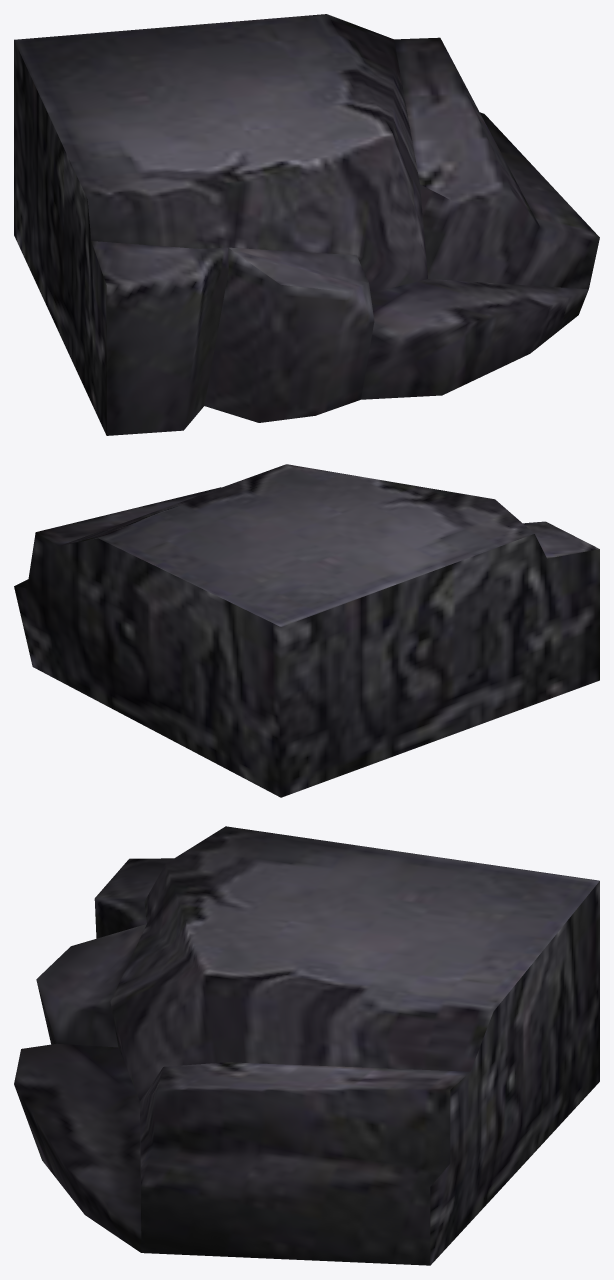
File: Treasure_Stone_03.FBX
The picture shows the model from 3 angles, top to bottom: view 1: azimuth 30°, elevation 25°; view 2: azimuth 150°, elevation 25°; view 3: azimuth 270°, elevation 25°; orthographic projection. The views are drawn at different scales.
Visible parts, largest first — view 1: Treasure_Stone_03; view 2: Treasure_Stone_03; view 3: Treasure_Stone_03.
Boxes of the visible parts, x1=… form: Treasure_Stone_03: x1=14, y1=14, x2=599, y2=435; Treasure_Stone_03: x1=14, y1=464, x2=599, y2=797; Treasure_Stone_03: x1=14, y1=826, x2=599, y2=1265.
Size of the model in its own units: 5 by 1.78 by 4.71.
